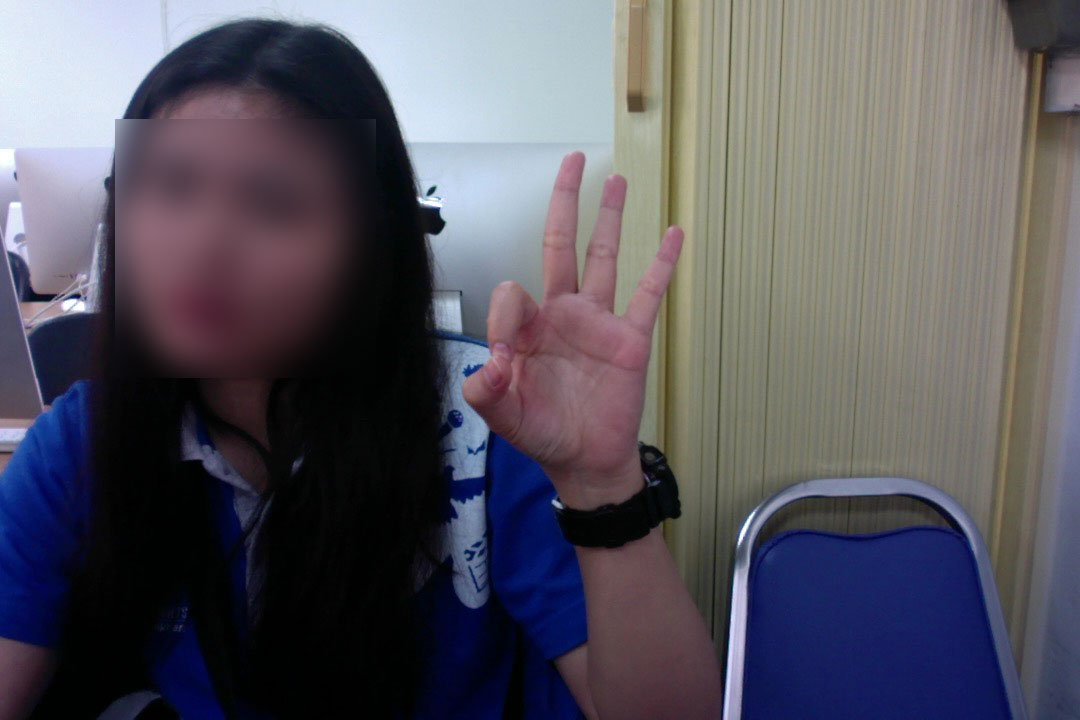for: (431, 139, 710, 543)
